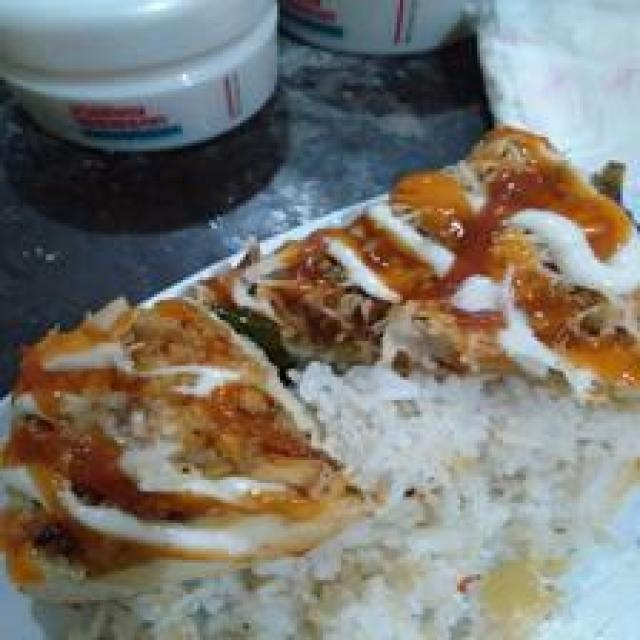Wet Waste: (40, 288, 622, 636)
